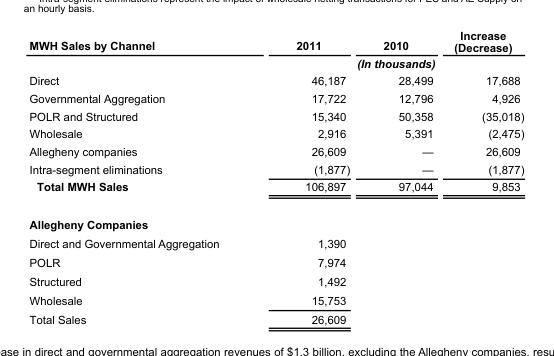table: (28, 29, 523, 325)
table column: (28, 29, 257, 325), (257, 29, 365, 325), (442, 29, 523, 325), (365, 29, 442, 325)
table column header: (28, 29, 523, 71)
table projected row header: (28, 205, 523, 233)
table row: (28, 177, 523, 205), (28, 205, 523, 233), (28, 29, 523, 54), (28, 233, 523, 252), (28, 252, 523, 271), (28, 271, 523, 290), (28, 290, 523, 309), (28, 71, 523, 89), (28, 106, 523, 124), (28, 124, 523, 142), (28, 159, 523, 177), (28, 54, 523, 71), (28, 89, 523, 106), (28, 142, 523, 159), (28, 309, 523, 325)
table spanning cell: (28, 29, 257, 71), (257, 54, 523, 71)
